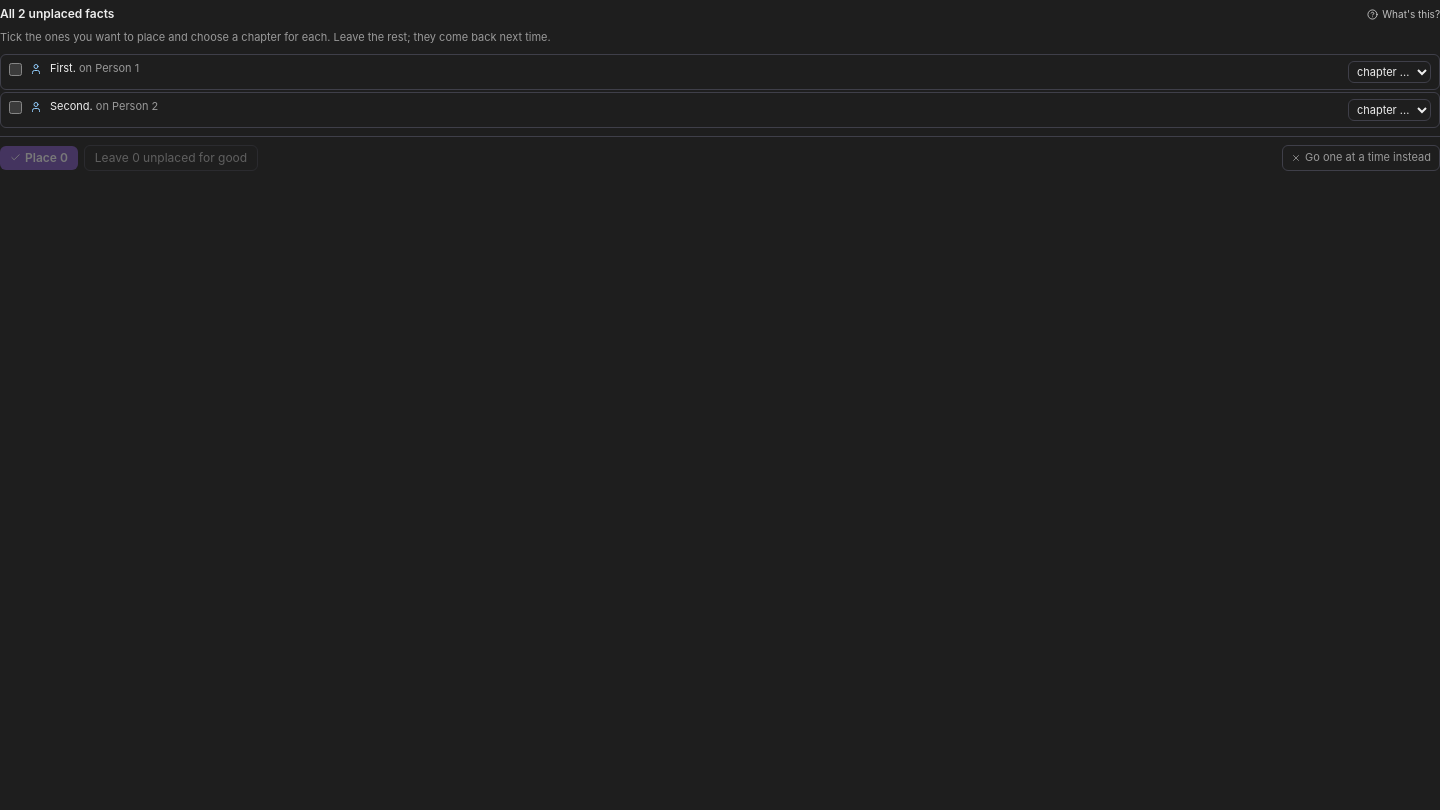
Test: the unplaced list › keeps the writes that landed when one fails part way
Select "The Raid" in the dropdown named "Chapter for First." at x=1390, y=72, box x1=1348 y1=61 x2=1431 y2=83
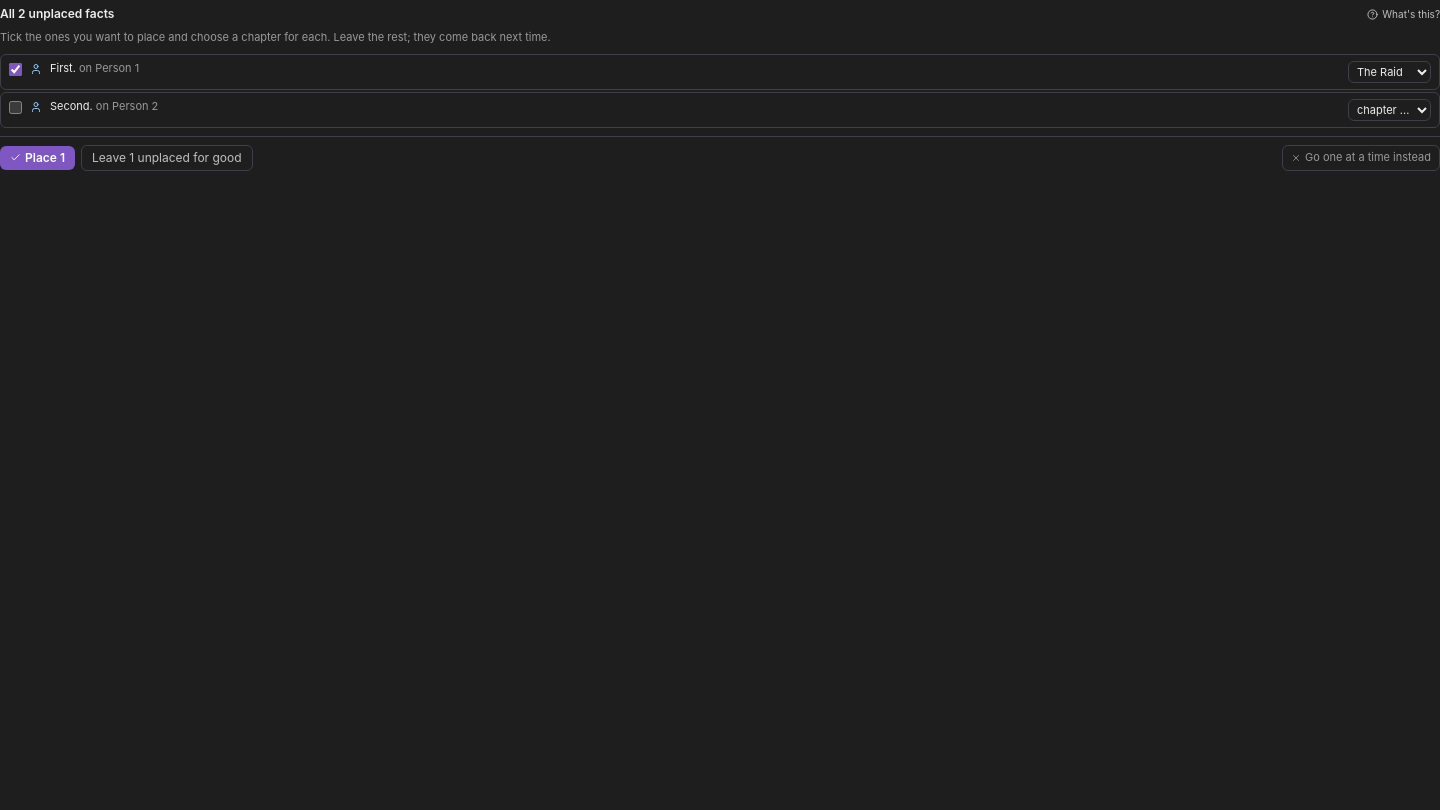
Select "The Raid" in the dropdown named "Chapter for Second." at x=1390, y=110, box x1=1348 y1=99 x2=1431 y2=121
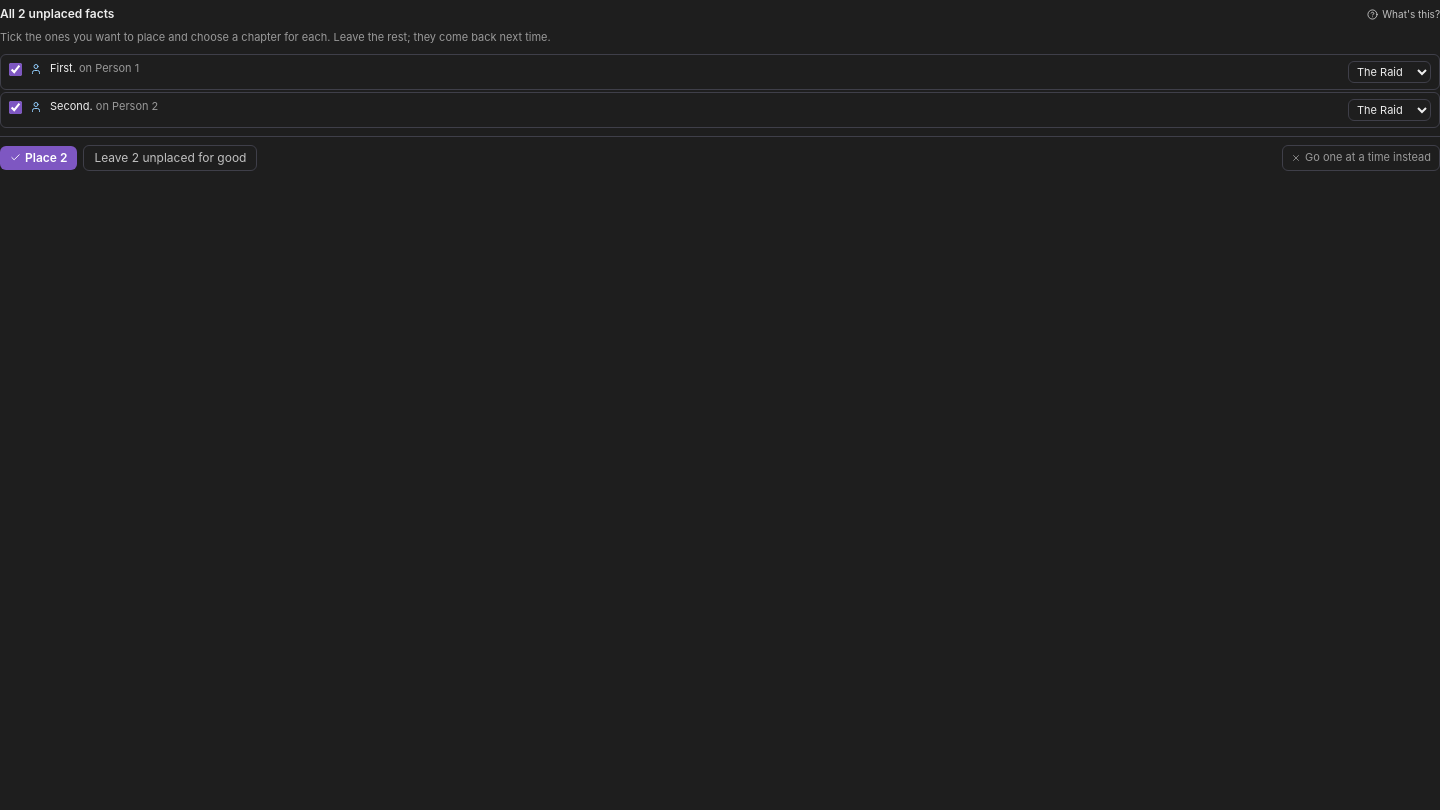
Click the button with test id "sweep-place".
click(39, 158)  # box x1=0 y1=146 x2=77 y2=170
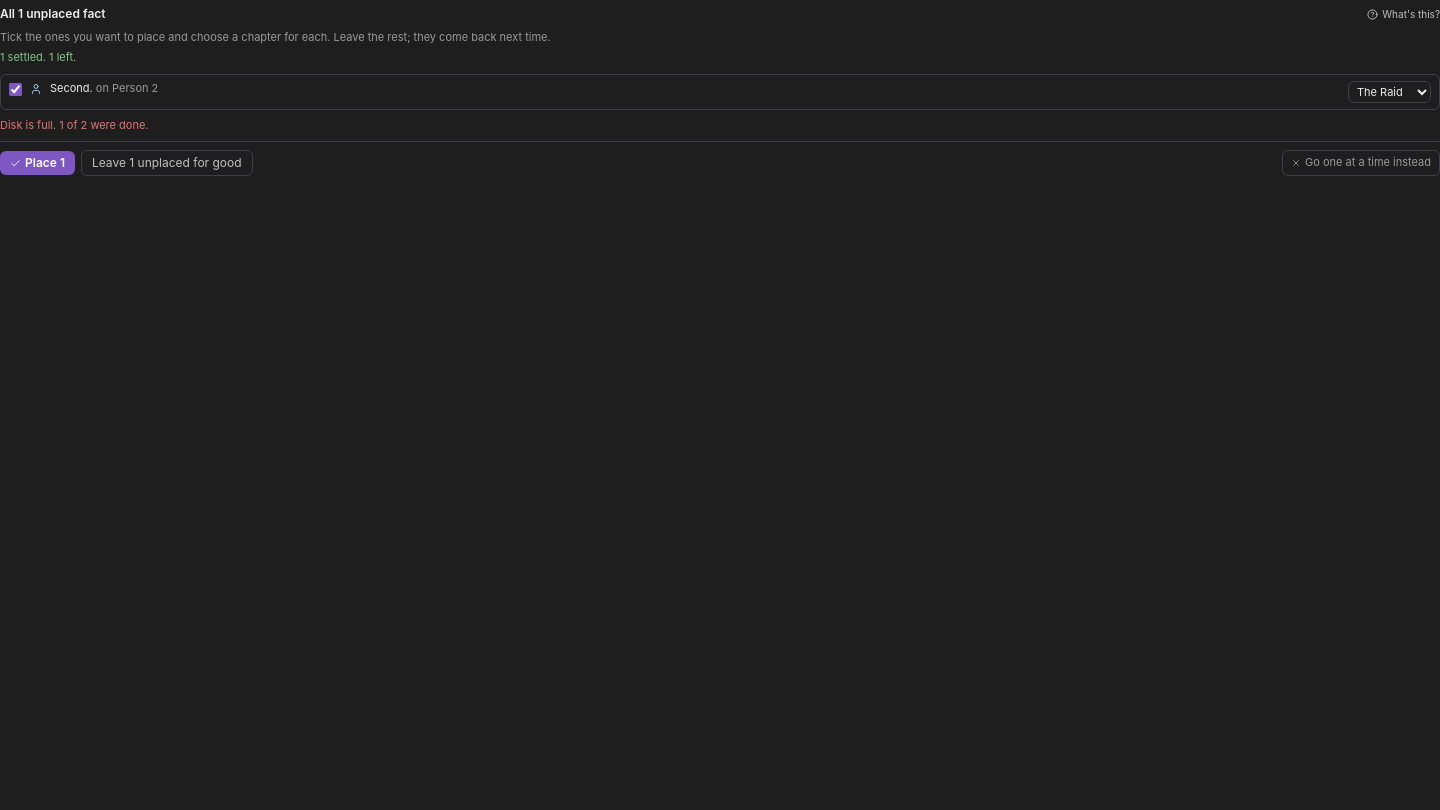
Result: the message shows "Disk is full." at x1=0 y1=118 x2=148 y2=132
Result: the message shows "1 of 2" at x1=0 y1=118 x2=148 y2=132
Result: the text with test id "sweep-done" shows "1 settled" at x1=0 y1=50 x2=76 y2=64
